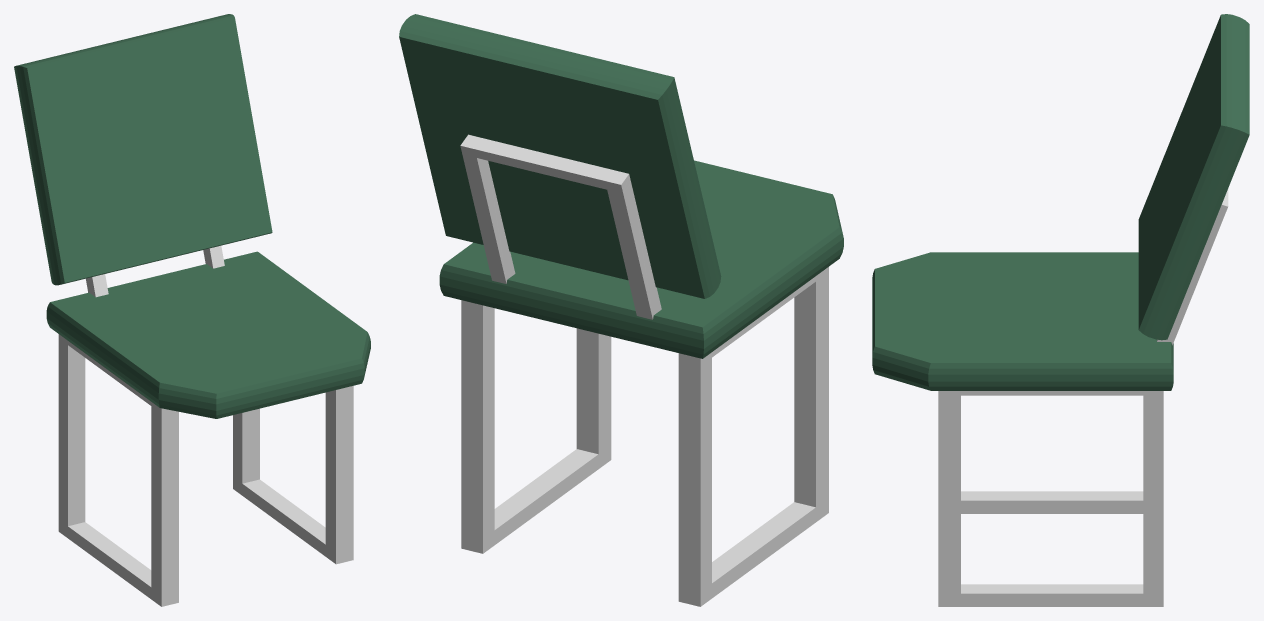
The model's file is Стул 1.fbx.
The picture shows the model from 3 angles, left to right: view 1: azimuth 30°, elevation 25°; view 2: azimuth 150°, elevation 25°; view 3: azimuth 270°, elevation 25°; orthographic projection. The views are drawn at different scales.
Parts seen in each view (by area): view 1: Cube.003, Cube.002, Cube, Cube.001, Cube.004; view 2: Cube.003, Cube.002, Cube, Cube.001, Cube.004; view 3: Cube.002, Cube.003, Cube.001, Cube, Cube.004.
Part boxes in pixels (x1,y1,x2,y2): Cube.003: (14,14,272,285); Cube.002: (46,251,370,418); Cube: (58,334,178,606); Cube.001: (233,386,353,564); Cube.004: (86,245,224,297); Cube.003: (399,14,721,298); Cube.002: (439,160,843,358); Cube: (678,267,828,606); Cube.001: (461,300,611,553); Cube.004: (460,134,661,319); Cube.002: (872,252,1173,390); Cube.003: (1138,14,1249,340); Cube.001: (938,391,1163,606); Cube: (961,491,1143,513); Cube.004: (1157,189,1228,345).
Bounding box in the file's own units: 245 × 492 × 345.
